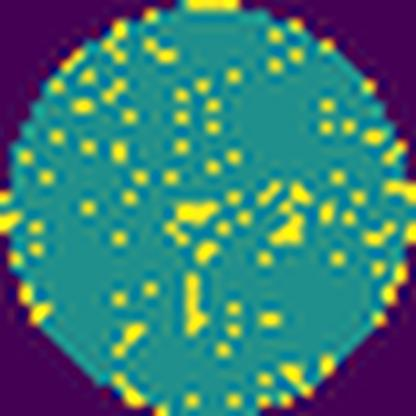Center: (161, 179, 315, 339)
